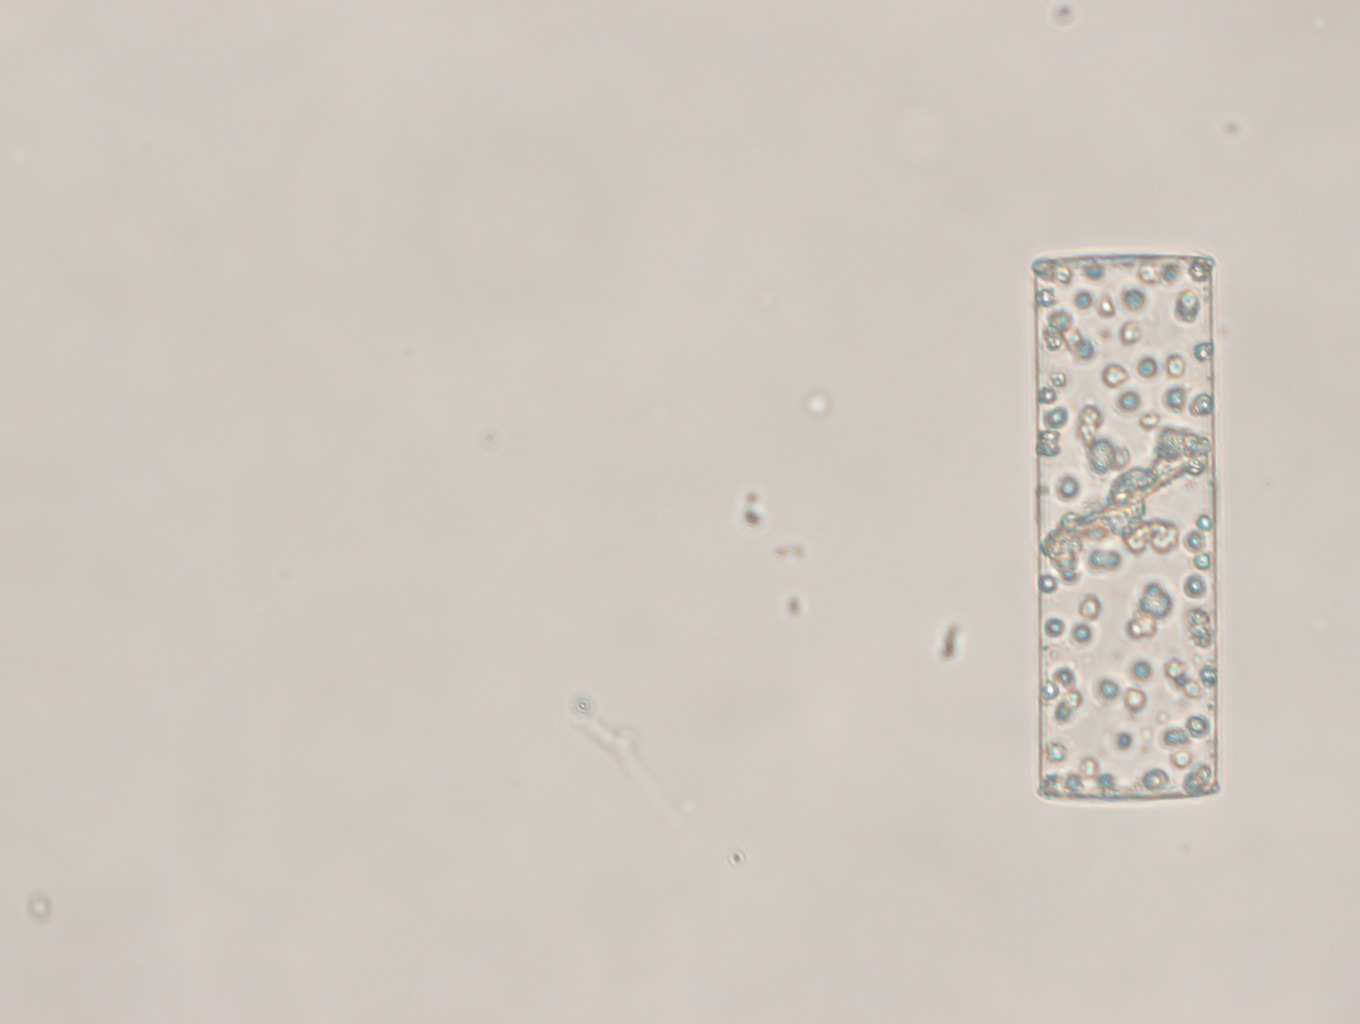guinardia flaccida: (1012, 243, 1231, 809)
